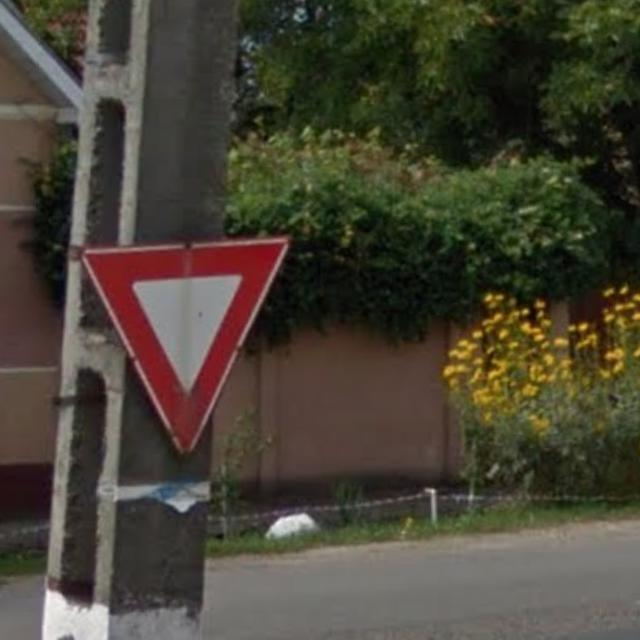prio_give_way: (77, 240, 288, 453)
